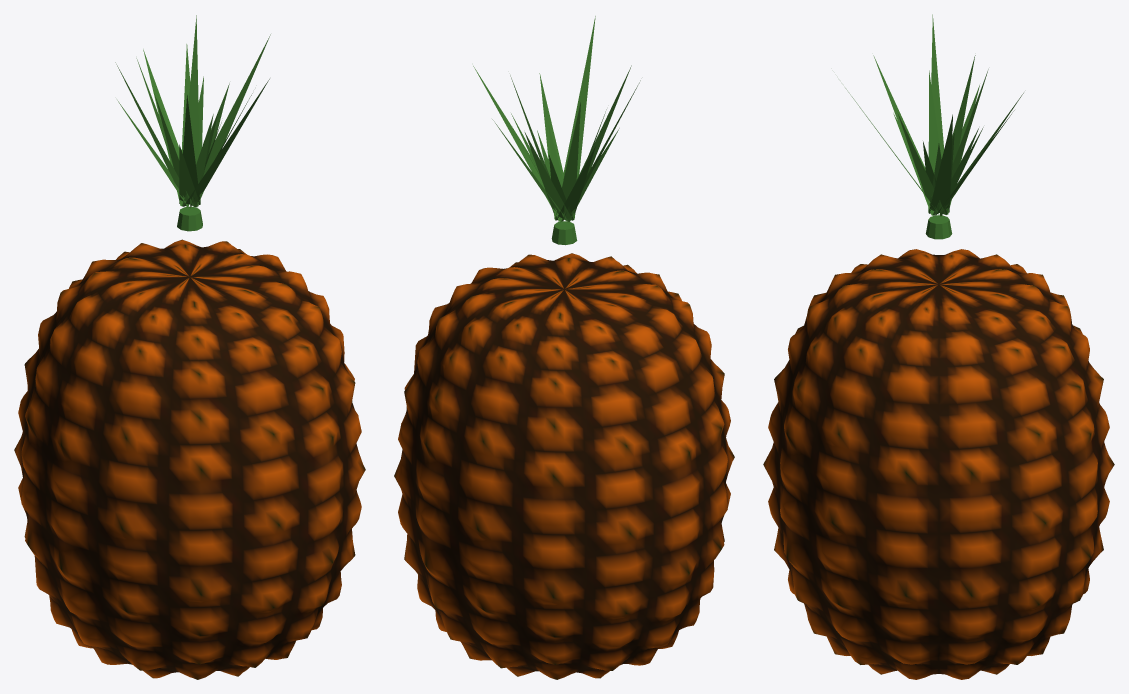
File: ananas.glb
The picture shows the model from 3 angles, left to right: view 1: azimuth 30°, elevation 25°; view 2: azimuth 150°, elevation 25°; view 3: azimuth 270°, elevation 25°; orthographic projection. The views are drawn at different scales.
Parts seen in each view (by area): view 1: entier_peau, moitie_B_peau, entier_extra0, moitie_A_peau; view 2: entier_peau, moitie_A_peau, entier_extra0, moitie_B_peau; view 3: entier_peau, moitie_B_peau, moitie_A_peau, entier_extra0.
Part boxes in pixels (x1,y1,x2,y2): entier_peau: (14, 239, 365, 679); moitie_B_peau: (45, 265, 364, 678); entier_extra0: (115, 15, 270, 231); moitie_A_peau: (15, 240, 286, 647); entier_peau: (394, 253, 734, 679); moitie_A_peau: (394, 277, 702, 674); entier_extra0: (473, 16, 640, 245); moitie_B_peau: (472, 253, 734, 648); entier_peau: (763, 249, 1114, 679); moitie_B_peau: (765, 249, 938, 678); moitie_A_peau: (939, 264, 1113, 678); entier_extra0: (845, 14, 1023, 239).
Bounding box in the file's own units: 1.27 × 2.48 × 1.33.
